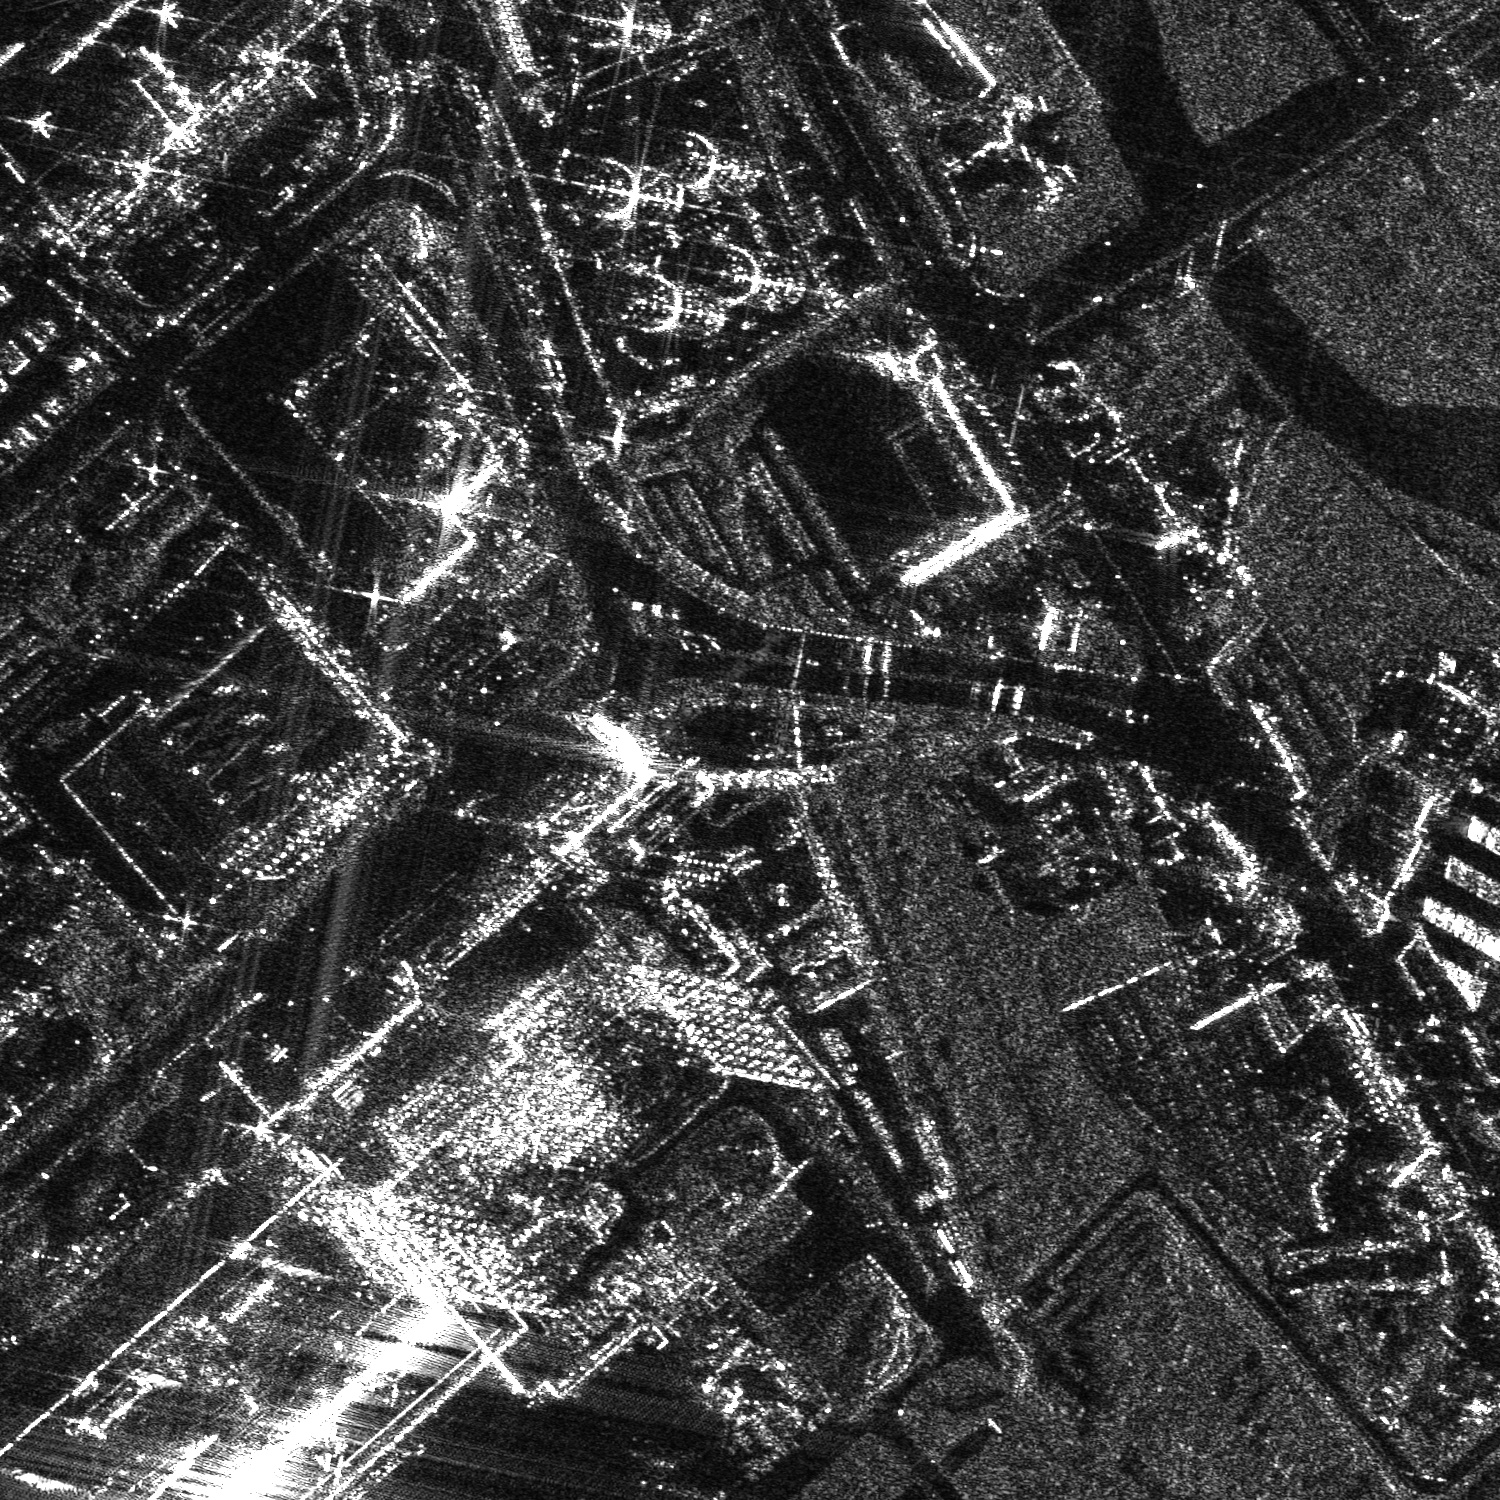Boeing737: (635, 1445, 706, 1499)
